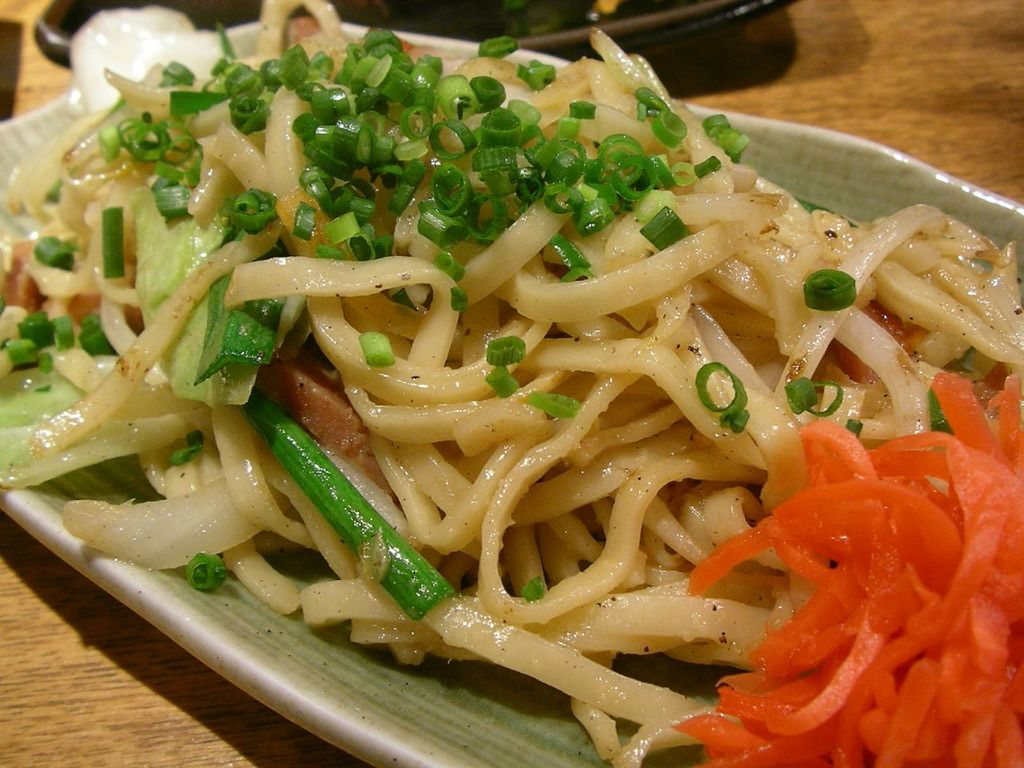pasta: (0, 0, 1024, 763)
